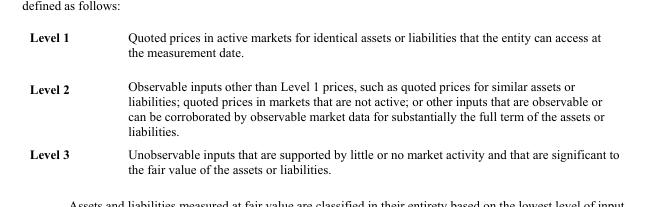table: (28, 29, 618, 175)
table column: (97, 29, 618, 175), (28, 29, 97, 175)
table row: (28, 68, 618, 142), (28, 29, 618, 68), (28, 142, 618, 175)
